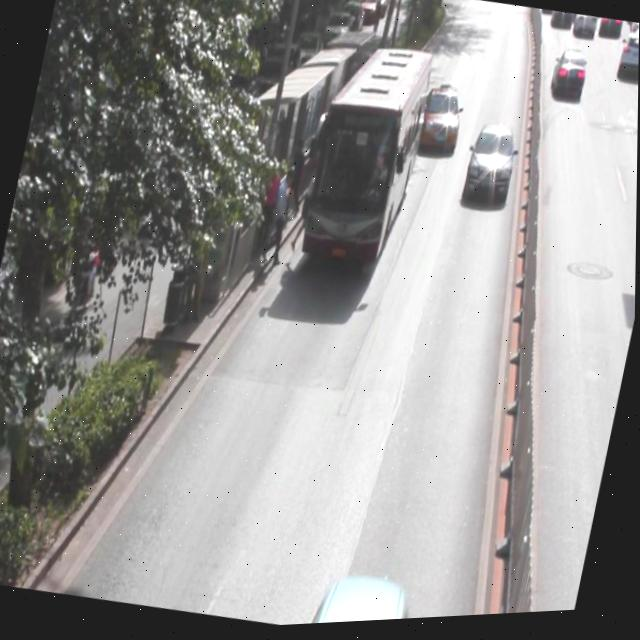car: (462, 126, 520, 210), (414, 88, 465, 160), (549, 52, 589, 106)
van: (297, 43, 436, 279)
